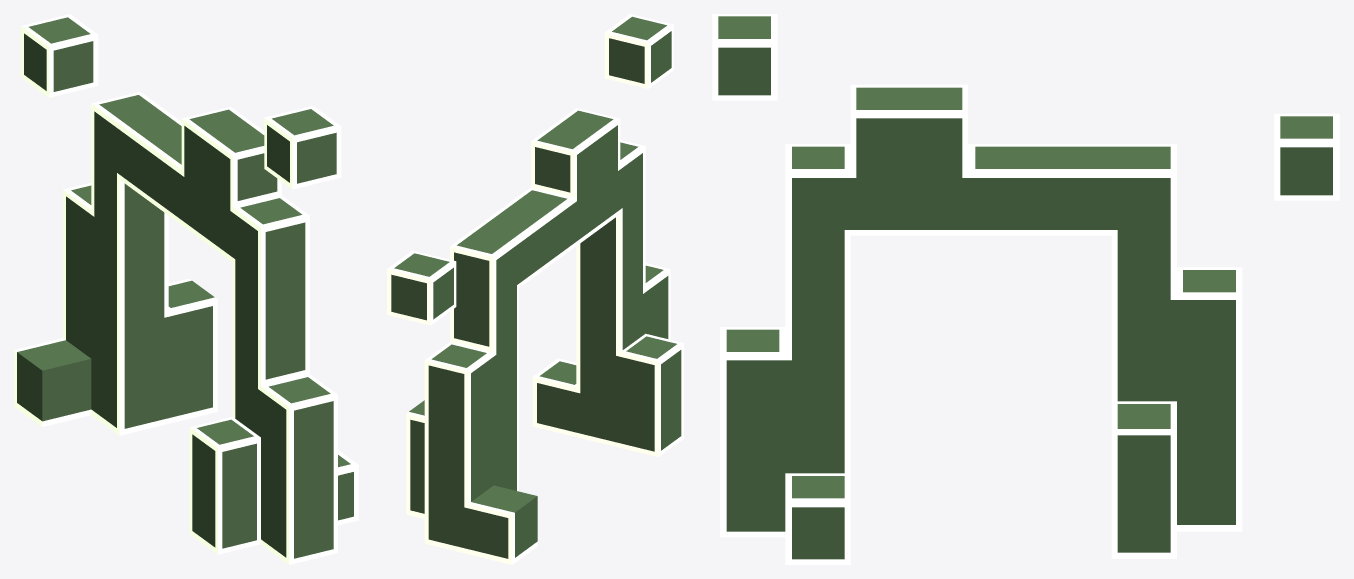
The model's file is stGates.fbx.
3 renders of one model, left to right at view 1: azimuth 30°, elevation 25°; view 2: azimuth 150°, elevation 25°; view 3: azimuth 270°, elevation 25°, orthographic. The views are drawn at different scales.
Parts seen in each view (by area): view 1: Cube, Cube.002, Cube.001; view 2: Cube, Cube.001, Cube.002; view 3: Cube, Cube.002, Cube.001.
Boxes of the visible parts, box(x1,y1,x2,y2) form: Cube: box(14, 91, 358, 564); Cube.002: box(21, 14, 98, 97); Cube.001: box(264, 106, 341, 189); Cube: box(406, 108, 683, 564); Cube.001: box(604, 14, 673, 88); Cube.002: box(387, 250, 456, 325); Cube: box(720, 84, 1242, 564); Cube.002: box(1274, 113, 1339, 200); Cube.001: box(712, 14, 777, 100).
Bounding box in the file's own units: 600 × 1675 × 1921.
